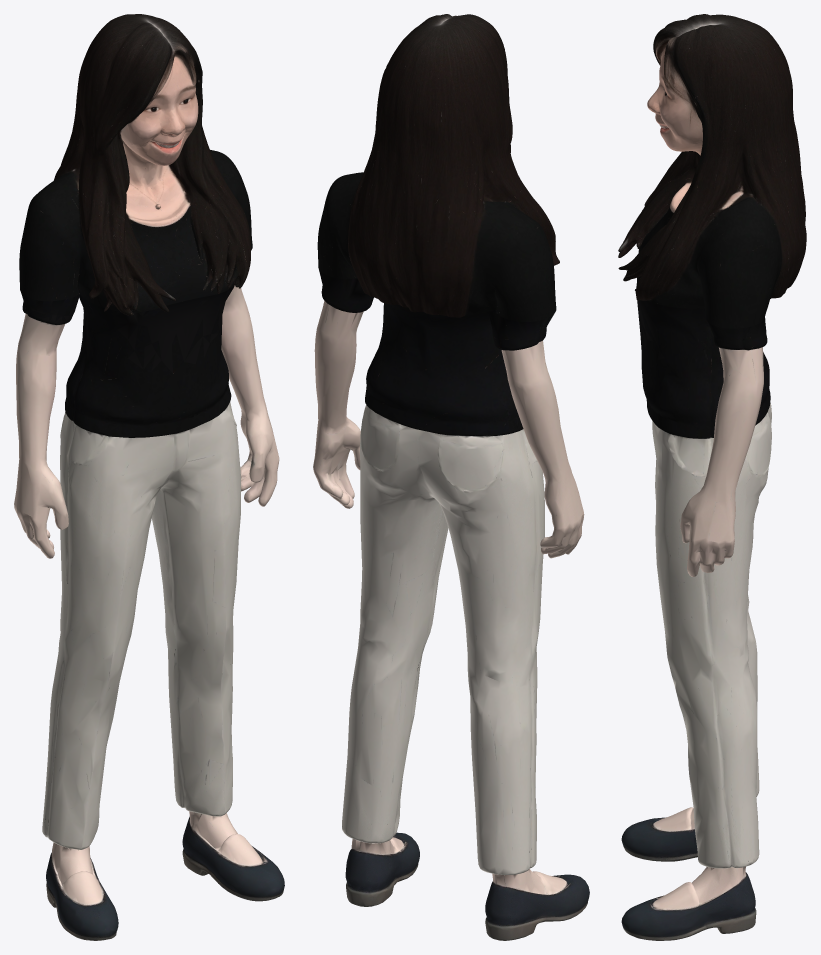
The model's file is 6-6-담임선생님.glb.
3 renders of one model, left to right at view 1: azimuth 30°, elevation 25°; view 2: azimuth 150°, elevation 25°; view 3: azimuth 270°, elevation 25°, orthographic. The views are drawn at different scales.
Visible parts, largest first — view 1: 6-6 v1 body, 6-6 v2 head; view 2: 6-6 v1 body, 6-6 v2 head; view 3: 6-6 v1 body, 6-6 v2 head.
Boxes of the visible parts, left/top/right/bottom form: 6-6 v1 body: left=14, top=285, right=284, bottom=940; 6-6 v2 head: left=19, top=14, right=252, bottom=315; 6-6 v1 body: left=313, top=270, right=589, bottom=940; 6-6 v2 head: left=317, top=14, right=559, bottom=321; 6-6 v1 body: left=621, top=277, right=771, bottom=940; 6-6 v2 head: left=618, top=14, right=806, bottom=328.
Size of the model in its own units: 0.5647 by 1.85 by 0.3623.
Materials: 3 (2 with a texture image).
